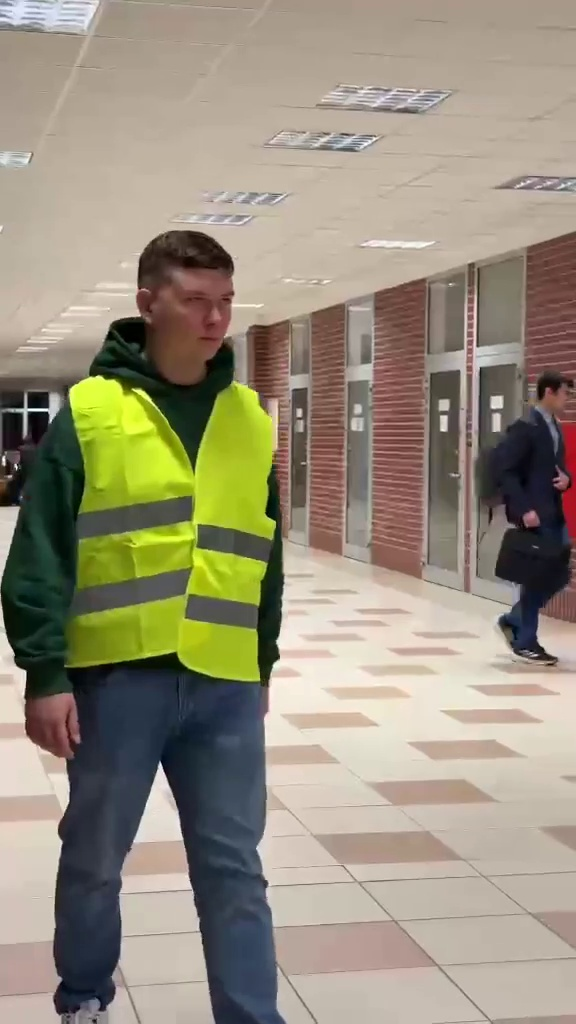no vest: (468, 362, 576, 660)
vest: (10, 222, 281, 1004)
